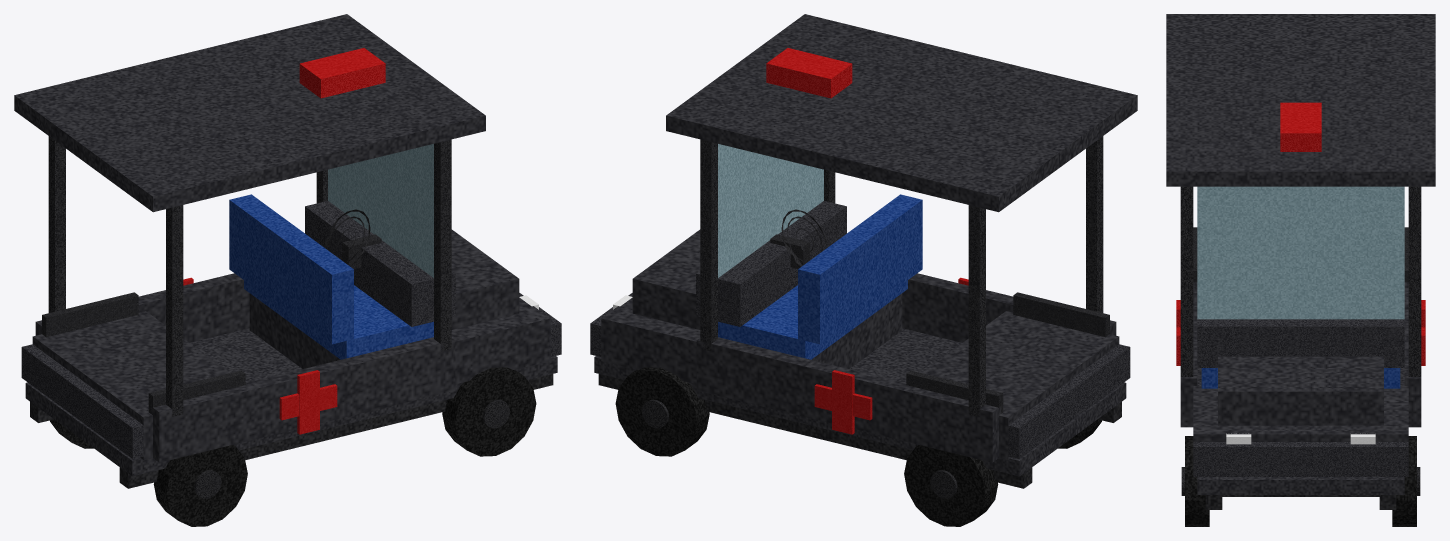
The model's file is carrito.obj.
3 views of the same model, side by side, from view 1: azimuth 30°, elevation 25°; view 2: azimuth 150°, elevation 25°; view 3: azimuth 270°, elevation 25° (orthographic). The views are drawn at different scales.
Parts seen in each view (by area): view 1: Cabin_Roof, Body_Sides, Seats_Bench, Wheels_Tires, Cabin_Posts, Cabin_Windshield, Chassis_Floor, Cabin_Dashboard, Details_Bumpers, Body_Deck_Rails, Chassis_Frame, Details_Beacon (+3 smaller); view 2: Cabin_Roof, Body_Sides, Seats_Bench, Wheels_Tires, Cabin_Posts, Cabin_Windshield, Chassis_Floor, Cabin_Dashboard, Details_Bumpers, Body_Deck_Rails, Chassis_Frame, Details_Beacon (+3 smaller); view 3: Cabin_Roof, Cabin_Windshield, Body_Sides, Cabin_Dashboard, Details_Bumpers, Cabin_Posts, Chassis_Floor, Wheels_Tires, Details_Beacon, Chassis_Frame, Seats_Bench, Details_Cross (+2 smaller).
Boxes of the visible parts, box(x1,y1,x2,y2) form: Cabin_Roof: box(14, 14, 485, 212); Body_Sides: box(32, 229, 550, 462); Seats_Bench: box(229, 194, 433, 359); Wheels_Tires: box(50, 367, 536, 526); Cabin_Posts: box(48, 136, 451, 416); Cabin_Windshield: box(328, 144, 433, 277); Chassis_Floor: box(25, 328, 557, 476); Cabin_Dashboard: box(305, 201, 455, 326); Details_Bumpers: box(21, 293, 561, 458); Body_Deck_Rails: box(42, 292, 245, 414); Chassis_Frame: box(30, 374, 553, 488); Details_Beacon: box(299, 48, 385, 98); Cabin_Roof: box(666, 14, 1137, 212); Body_Sides: box(601, 229, 1119, 462); Seats_Bench: box(718, 194, 922, 359); Wheels_Tires: box(615, 367, 1101, 526); Cabin_Posts: box(700, 136, 1103, 416); Cabin_Windshield: box(718, 144, 823, 277); Chassis_Floor: box(594, 328, 1126, 476); Cabin_Dashboard: box(696, 201, 846, 326); Details_Bumpers: box(590, 293, 1130, 458); Body_Deck_Rails: box(906, 292, 1109, 413); Chassis_Frame: box(598, 374, 1121, 488); Details_Beacon: box(766, 48, 852, 98); Cabin_Roof: box(1166, 14, 1435, 186); Cabin_Windshield: box(1197, 186, 1404, 319); Body_Sides: box(1180, 282, 1421, 441); Cabin_Dashboard: box(1197, 319, 1404, 367); Details_Bumpers: box(1193, 442, 1408, 476); Cabin_Posts: box(1180, 186, 1421, 376); Chassis_Floor: box(1197, 368, 1404, 494); Wheels_Tires: box(1185, 436, 1416, 526); Details_Beacon: box(1280, 102, 1321, 151); Chassis_Frame: box(1205, 495, 1396, 509); Seats_Bench: box(1201, 368, 1400, 388); Details_Cross: box(1176, 300, 1425, 365).
Size of the model in its own units: 2.32 by 1.92 by 1.3.
Materials: 7 (7 with a texture image).
